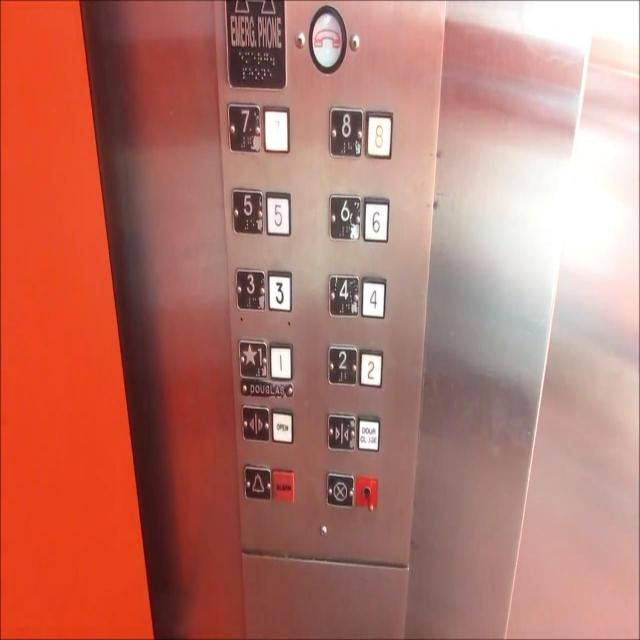1: (237, 338, 269, 380), (268, 340, 293, 380)
2: (326, 343, 358, 387), (358, 347, 383, 388)
3: (234, 267, 266, 312), (267, 268, 292, 311)
4: (328, 272, 359, 316), (360, 275, 386, 318)
5: (231, 187, 264, 234), (264, 190, 292, 237)
6: (328, 193, 361, 240), (362, 196, 390, 242)
7: (227, 100, 261, 156)
8: (328, 106, 364, 157), (365, 109, 393, 160)
alarm: (243, 462, 271, 502)
blur: (262, 104, 290, 154)
bt_switch: (354, 475, 378, 511)
call: (307, 2, 347, 74)
close: (326, 412, 356, 452)
open: (240, 403, 270, 441)
stop: (326, 471, 354, 509)
text_alarm bell: (271, 468, 295, 502)
text_close door: (356, 414, 381, 452)
text_open door: (270, 408, 294, 444)
